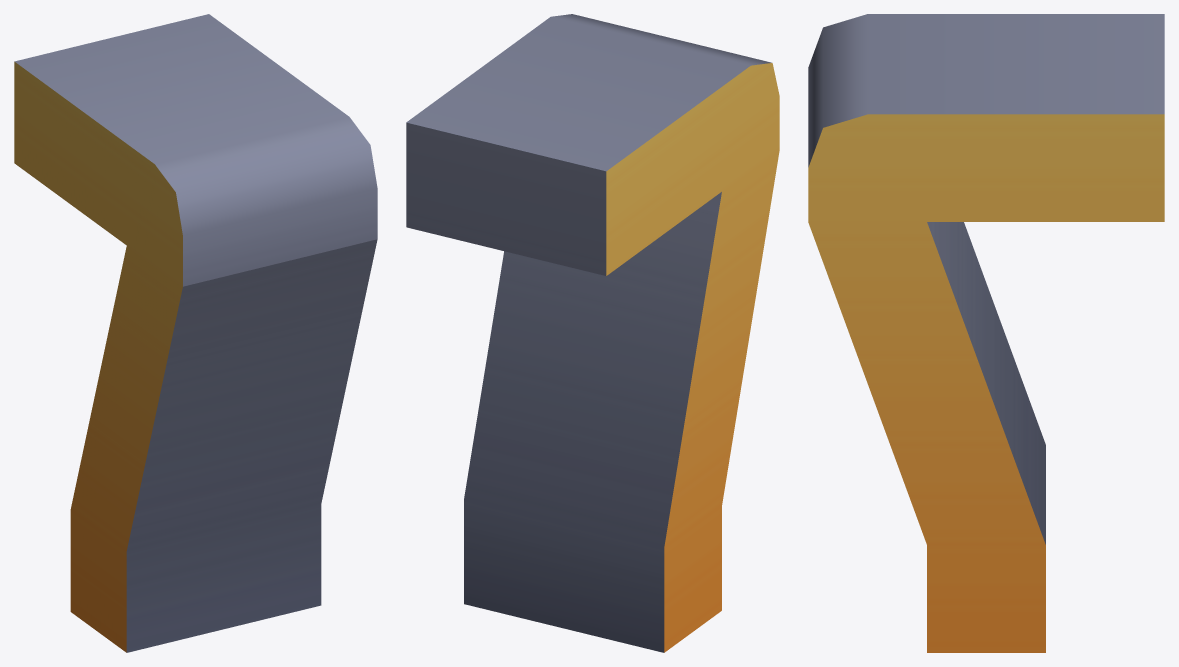
Rendered from number-7.fbx.
3 views of the same model, side by side, from view 1: azimuth 30°, elevation 25°; view 2: azimuth 150°, elevation 25°; view 3: azimuth 270°, elevation 25° (orthographic). The views are drawn at different scales.
Visible parts, largest first — view 1: number-7; view 2: number-7; view 3: number-7.
Part boxes in pixels (bbox=[...]): number-7: bbox=[14, 14, 377, 652]; number-7: bbox=[406, 14, 779, 652]; number-7: bbox=[808, 14, 1164, 652].
Bounding box in the file's own units: 20 × 50 × 30.
